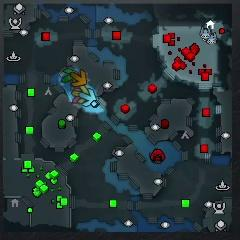x1: (72, 87, 81, 106)
x2: (72, 86, 90, 104)
x3: (79, 89, 99, 107)
x4: (61, 68, 79, 85)
x5: (71, 70, 87, 87)
